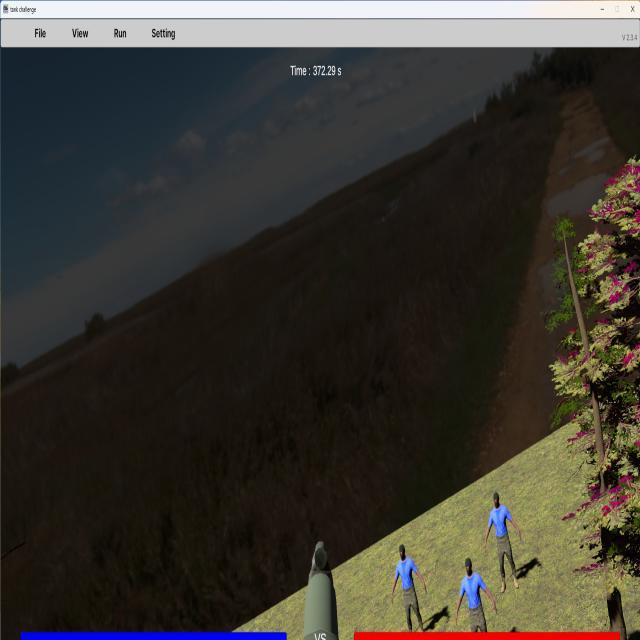Human: (485, 491, 522, 594), (392, 544, 428, 639), (456, 556, 497, 639)
